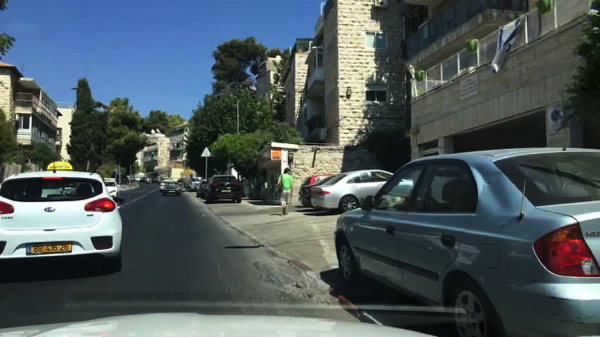car: (332, 146, 599, 337), (0, 160, 124, 279), (309, 169, 396, 215), (296, 171, 340, 208), (205, 174, 242, 204), (195, 178, 214, 199), (102, 179, 120, 200), (185, 176, 205, 192), (162, 182, 183, 196), (159, 180, 172, 192), (175, 177, 190, 187), (138, 176, 150, 184), (150, 175, 159, 184), (159, 177, 170, 184), (134, 176, 142, 181), (129, 176, 135, 180)
person: (276, 167, 293, 216)
traffic light: (175, 143, 180, 152), (151, 154, 154, 161)
traffic sign: (200, 147, 213, 158), (184, 170, 194, 175), (148, 172, 156, 176), (116, 171, 120, 178)
